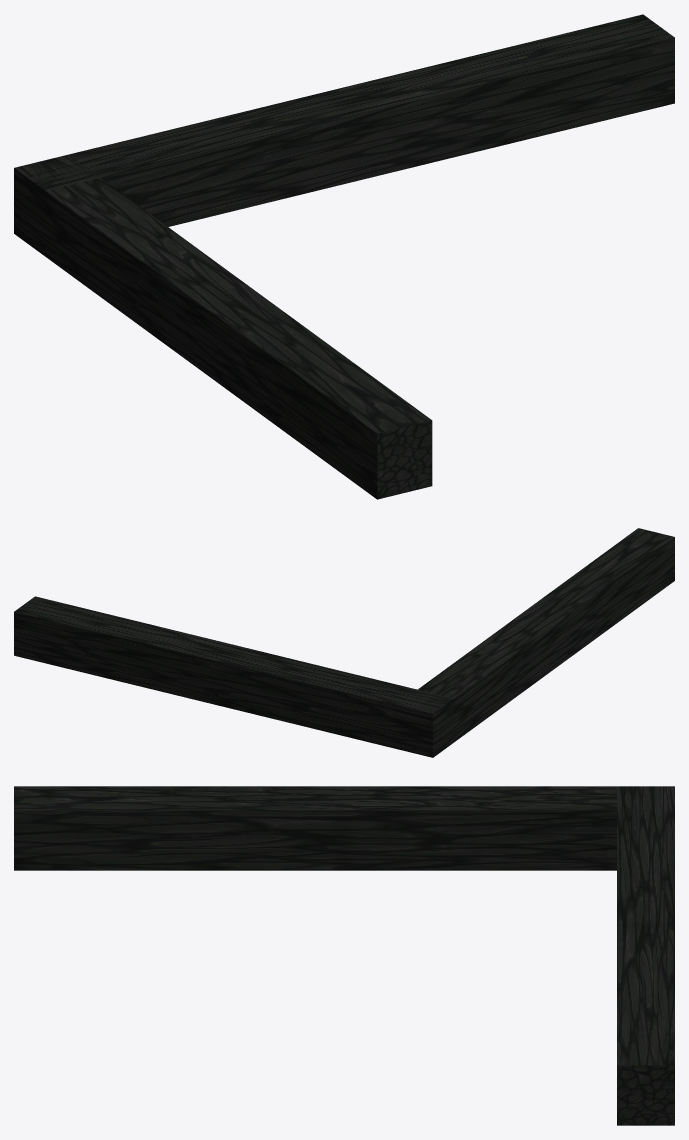
Rendered from tudor_foundation_corner_inner.glb.
The picture shows the model from 3 angles, top to bottom: view 1: azimuth 30°, elevation 25°; view 2: azimuth 150°, elevation 25°; view 3: azimuth 270°, elevation 25°; orthographic projection. The views are drawn at different scales.
Parts seen in each view (by area): view 1: tudor_foundation_corner_inner, _MeshInstance3D_2499; view 2: tudor_foundation_corner_inner, _MeshInstance3D_2499; view 3: _MeshInstance3D_2499, tudor_foundation_corner_inner.
Boxes of the visible parts, x1,y1,x2,y2 form: tudor_foundation_corner_inner: (14, 14, 674, 245); _MeshInstance3D_2499: (14, 154, 432, 499); tudor_foundation_corner_inner: (14, 596, 454, 757); _MeshInstance3D_2499: (407, 528, 674, 757); _MeshInstance3D_2499: (14, 786, 659, 870); tudor_foundation_corner_inner: (617, 786, 674, 1125).
Bounding box in the file's own units: 4 × 0.4 × 4.
Materials: 1 (1 with a texture image).
